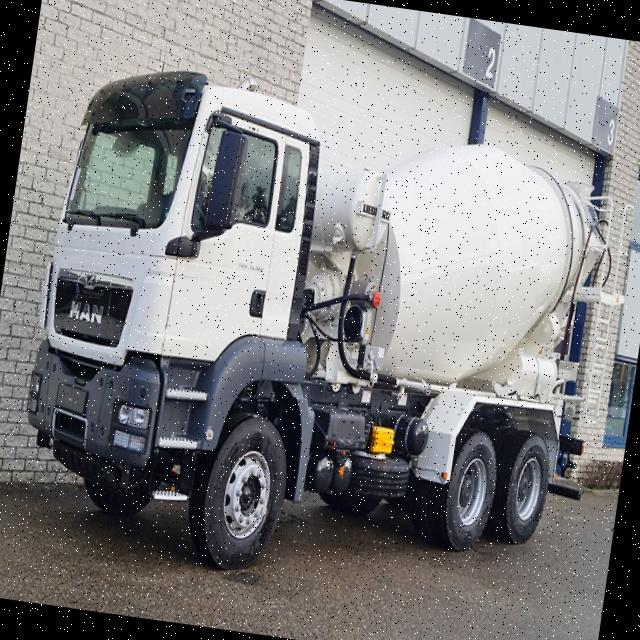Mixer Truck: (8, 55, 640, 617)
